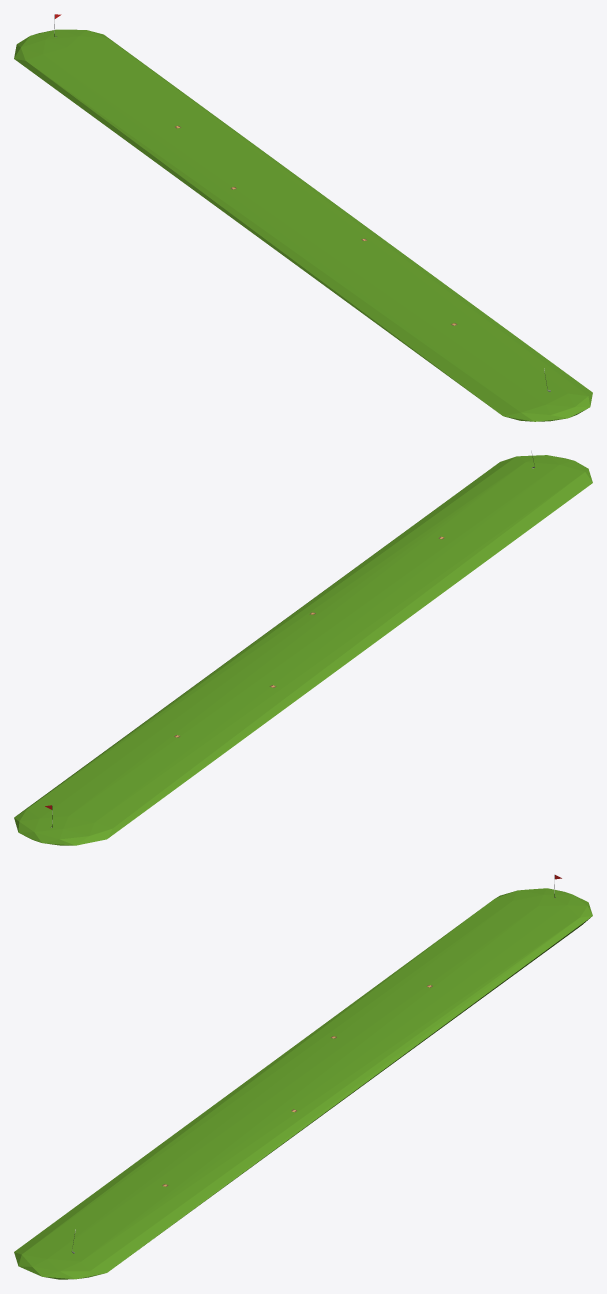
Rendered from level_3.glb.
3 views of the same model, one above another, from view 1: azimuth 30°, elevation 25°; view 2: azimuth 150°, elevation 25°; view 3: azimuth 330°, elevation 25° (orthographic).
Visible parts, largest first — view 1: grass; view 2: grass; view 3: grass.
Part boxes in pixels (x1=…): grass: x1=14, y1=29, x2=592, y2=421; grass: x1=14, y1=455, x2=592, y2=845; grass: x1=14, y1=888, x2=592, y2=1279.
Size of the model in its own units: 101 by 36.14 by 1001.
Materials: 12 (1 with a texture image).
